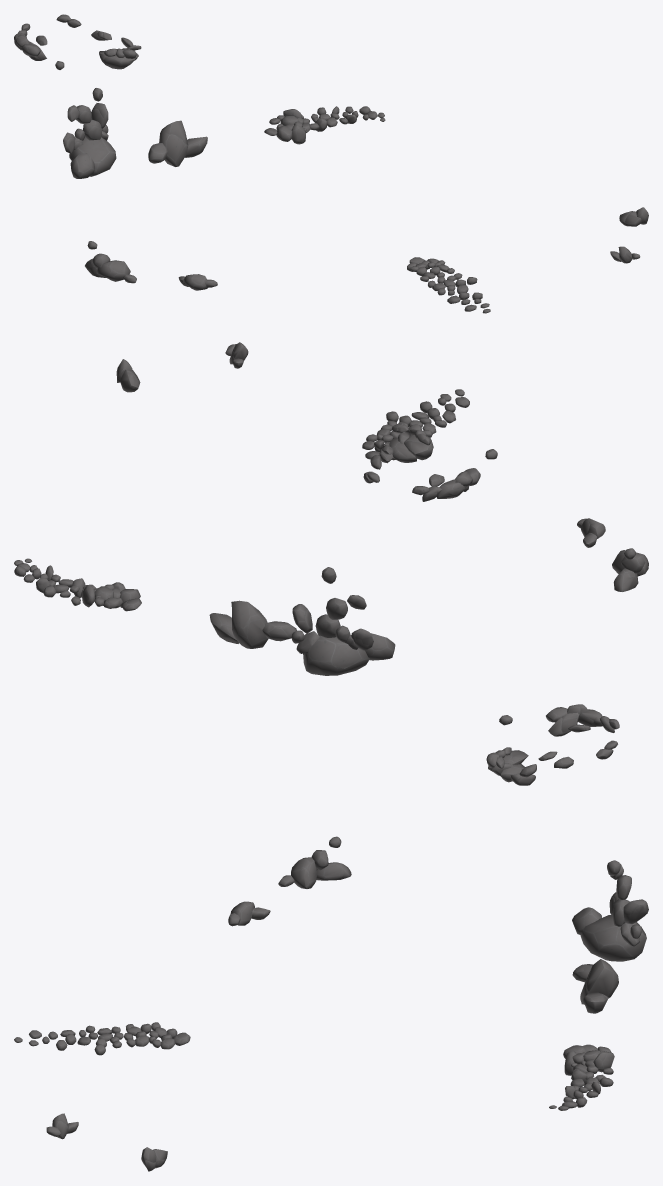
File: rockallinone.glb
The picture shows the model from 3 angles, top to bottom: view 1: azimuth 30°, elevation 25°; view 2: azimuth 150°, elevation 25°; view 3: azimuth 270°, elevation 25°; orthographic projection. The views are drawn at different scales.
Visible parts, largest first — view 1: Rock; view 2: Rock; view 3: Rock.
Part boxes in pixels (x1,y1,x2,y2): Rock: (14,14,648,313); Rock: (14,342,648,675); Rock: (14,704,648,1171).
Size of what is drawn, in the model's own units: 91.44 by 31.28 by 85.91.
3 materials, 3 textured.
